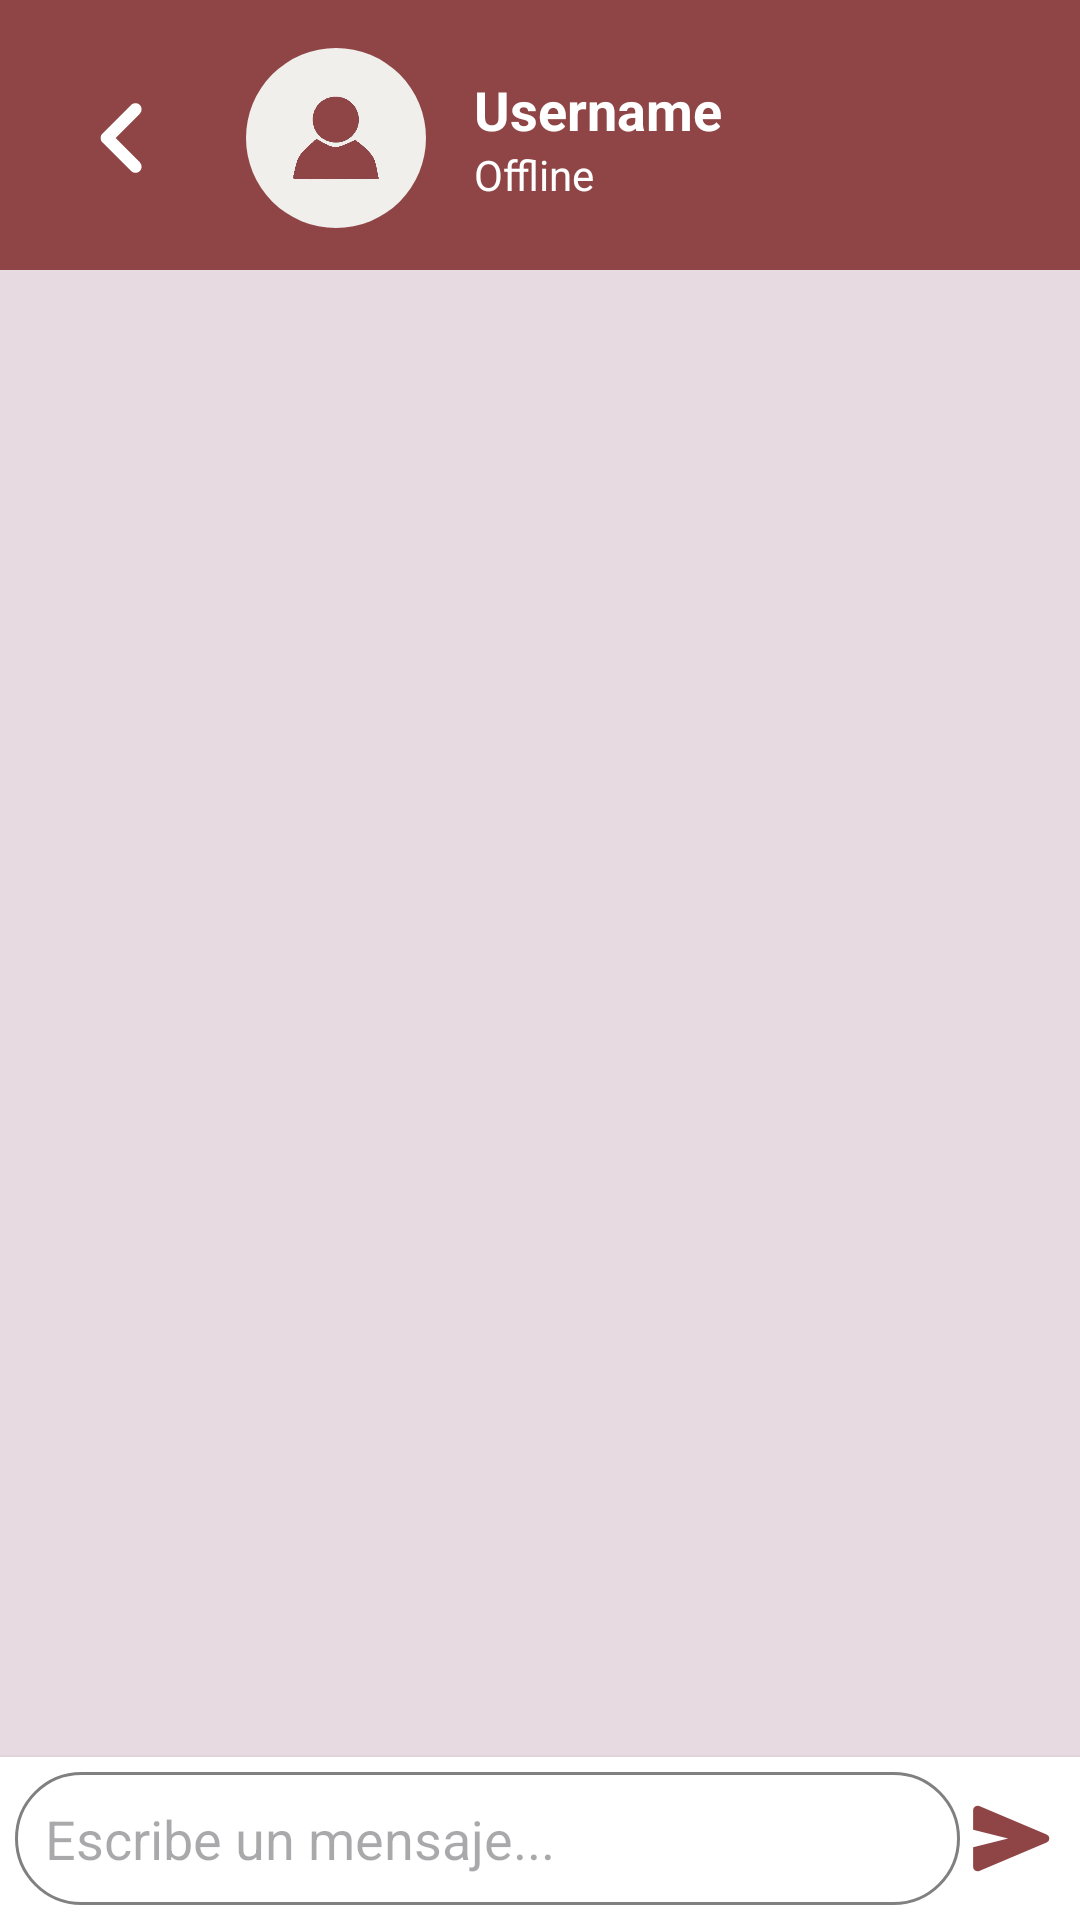

Icon click points for this 1080x1920 phone screenshot, format point (x, y):
Enviar: point (1011, 1838)
Volver: point (121, 138)
